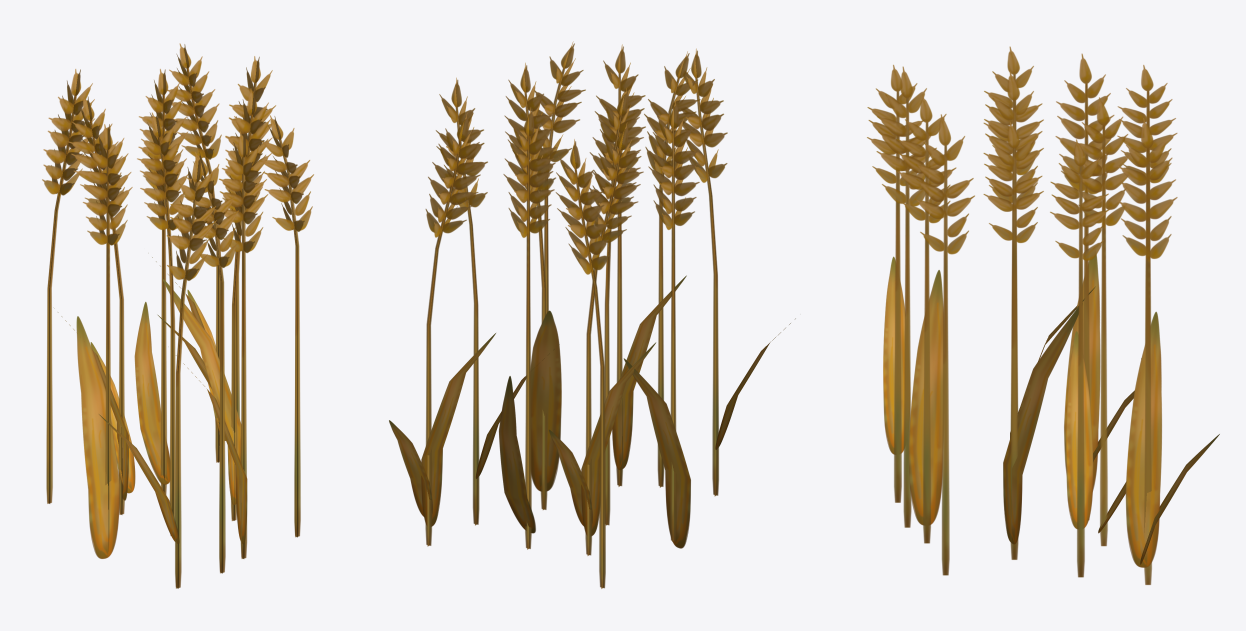
The model's file is wheat.glb.
3 views of the same model, side by side, from view 1: azimuth 30°, elevation 25°; view 2: azimuth 150°, elevation 25°; view 3: azimuth 270°, elevation 25° (orthographic). The views are drawn at different scales.
Parts seen in each view (by area): view 1: BunchOfWheat1_Wheat2_low10; view 2: BunchOfWheat1_Wheat2_low10; view 3: BunchOfWheat1_Wheat2_low10.
Part boxes in pixels (x1,y1,x2,y2): BunchOfWheat1_Wheat2_low10: (42, 43, 313, 588); BunchOfWheat1_Wheat2_low10: (389, 41, 795, 588); BunchOfWheat1_Wheat2_low10: (867, 46, 1219, 584).
Size of the model in its own units: 0.0536 by 0.0814 by 0.0563.
1 material, 1 textured.
